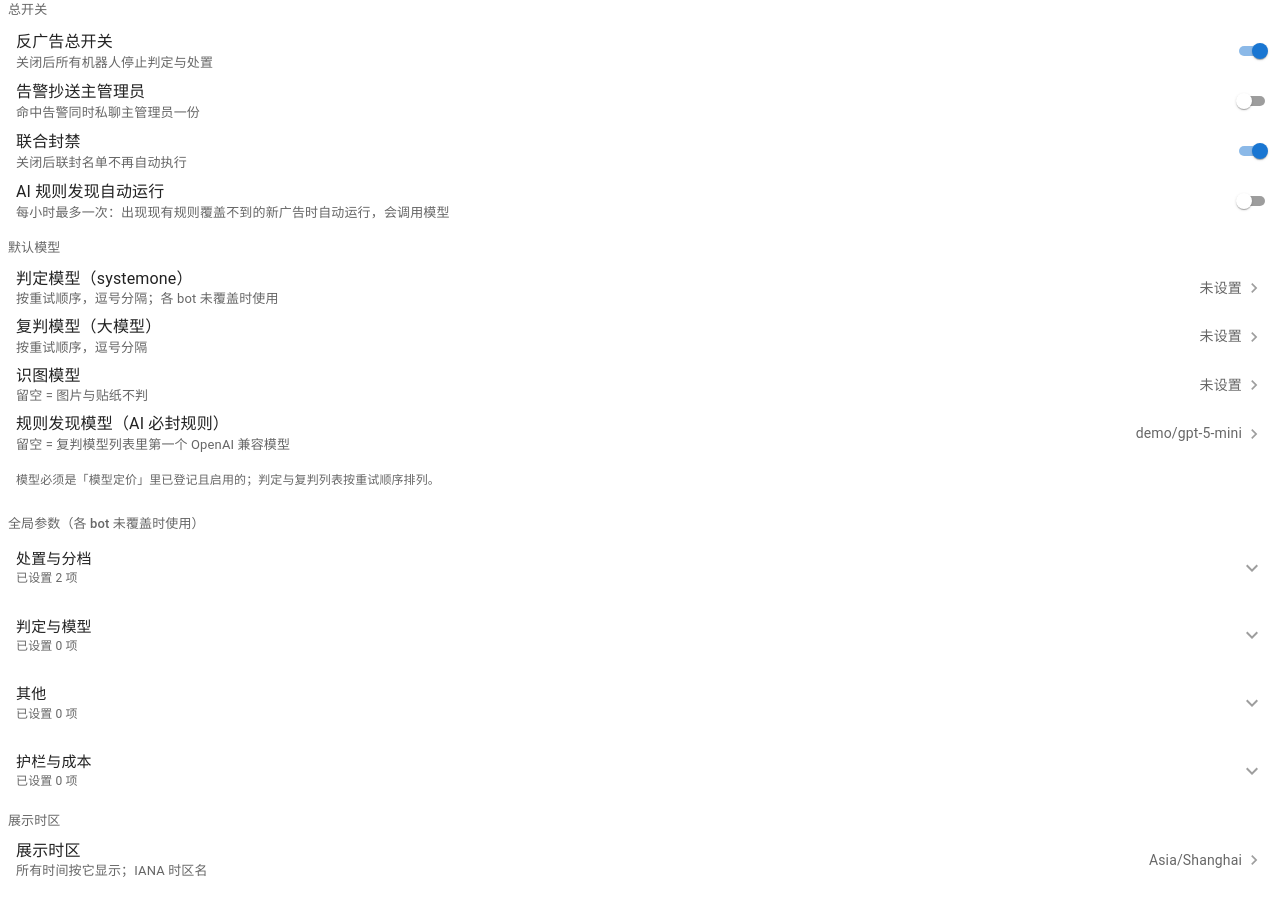
Test: SettingsPage 特殊卡 › 规则发现模型：行内回显全局值，抽屉展示配置提示
This screenshot has width=1280, height=899.
Expected: the heading "总开关" is shown, [8, 2, 47, 17]
Expected: the text "demo/gpt-5-mini" is shown, [1136, 423, 1242, 444]
Click the button "规则发现模型（AI 必封规则） 留空 = 复判模型列表里第一个 OpenAI 兼容模型 demo/gpt-5-mini". click: (123, 424)
box: [0, 410, 1279, 458]
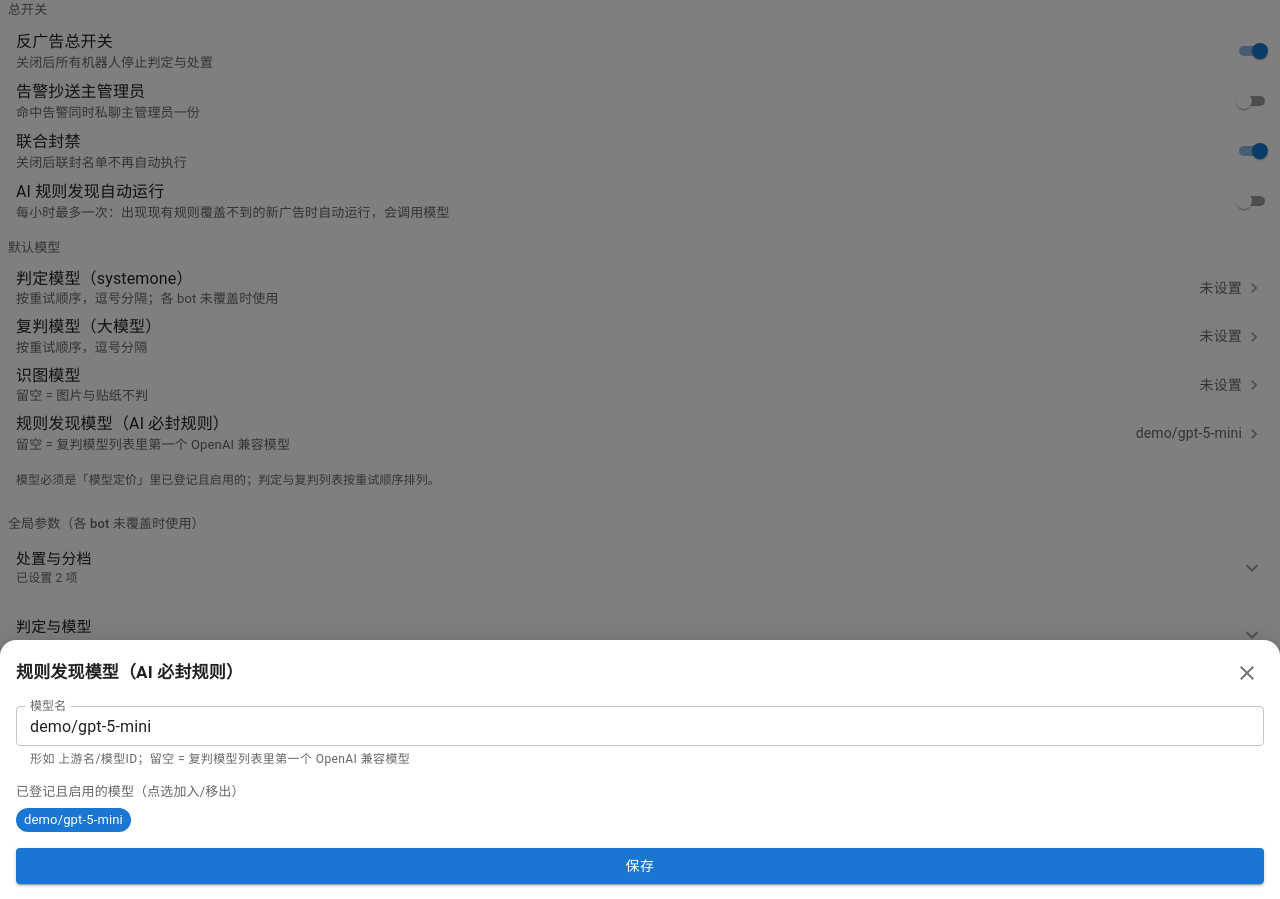
Expected: the text "形如 上游名/模型ID；留空 = 复判模型列表里第一个 OpenAI 兼容模型" is shown, [30, 752, 410, 766]
